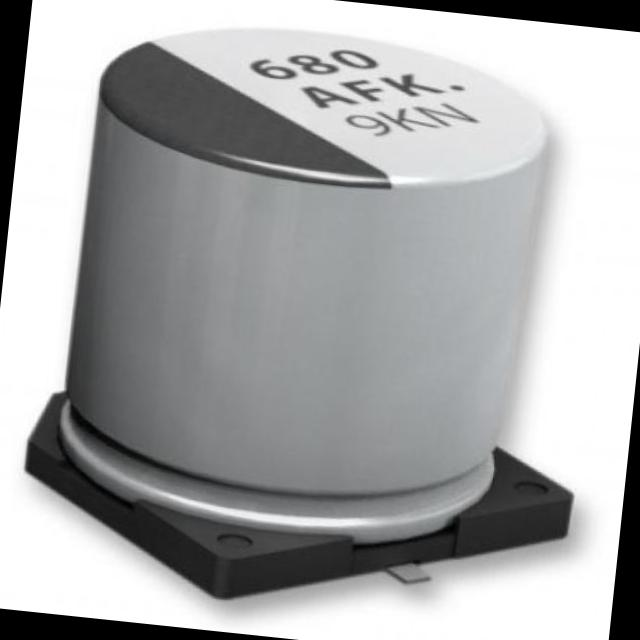capacitor: (40, 0, 581, 598)
